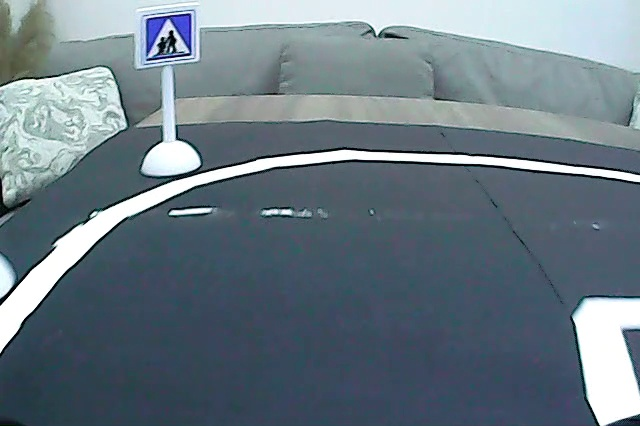school crossing: (141, 10, 196, 65)
